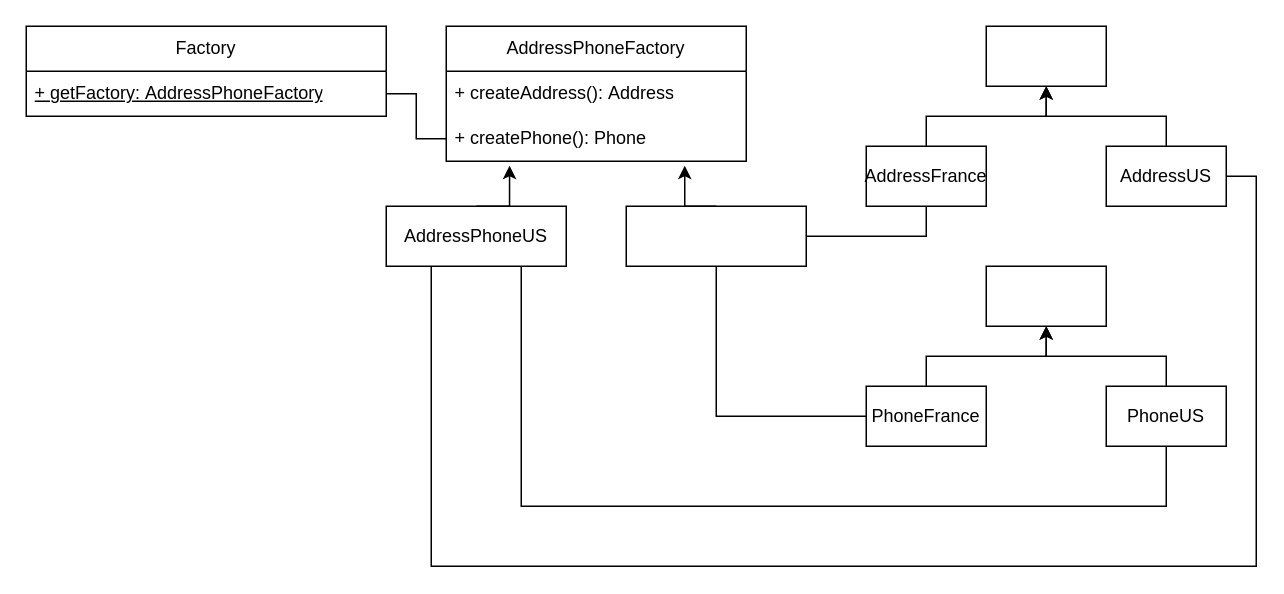
This 1284x594 diagram has some shape labels left out. The shapes that lost their labels are listed below. From the top down, each one's box as (x1, y1, x2, y2) in pixels, then its label:
(985, 25, 1106, 86): Address
(625, 205, 806, 266): AddressPhoneFrance
(985, 265, 1106, 326): Phone
